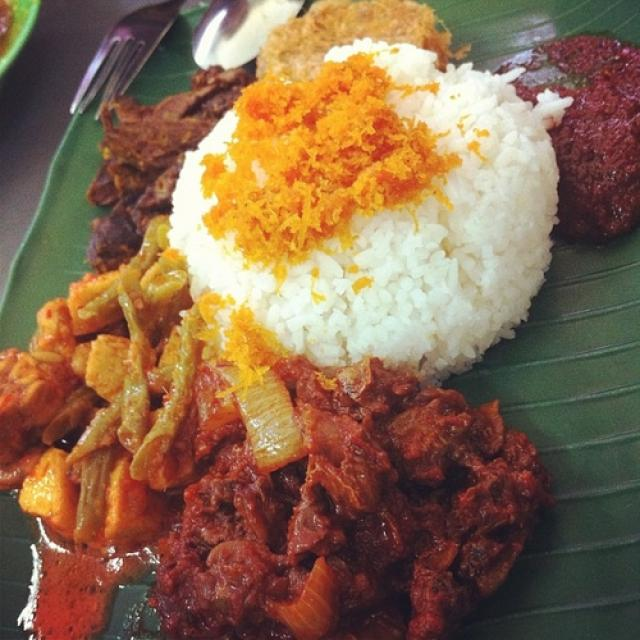米饭主食: (23, 10, 617, 604)
